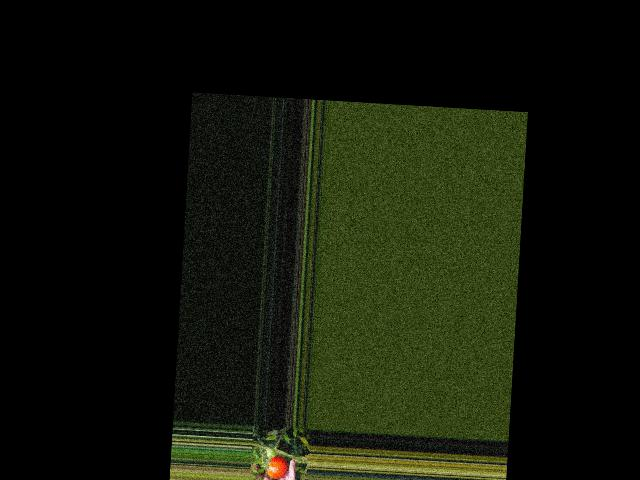tomato: (266, 455, 288, 479)
